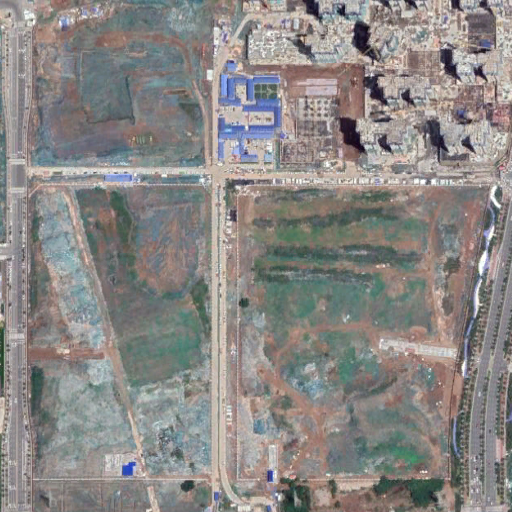cw: (234, 185, 493, 498), (27, 173, 214, 510), (33, 1, 247, 158)
